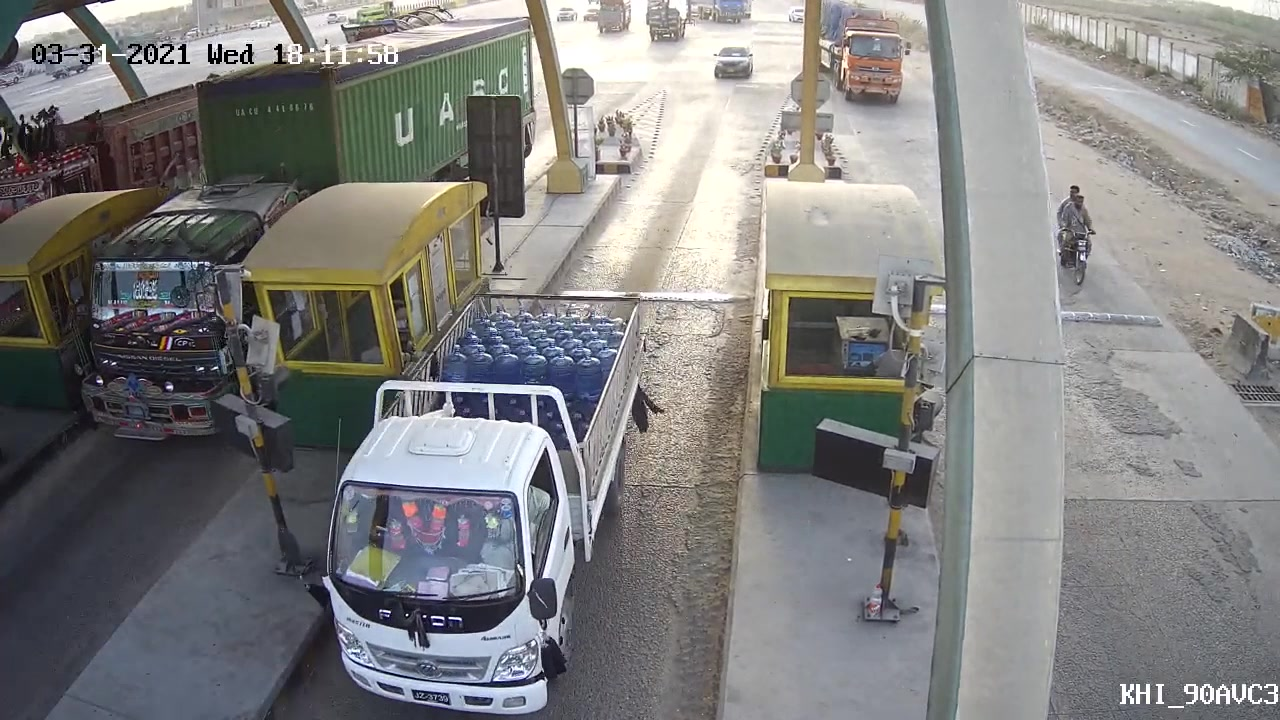F3: (297, 289, 654, 715)
